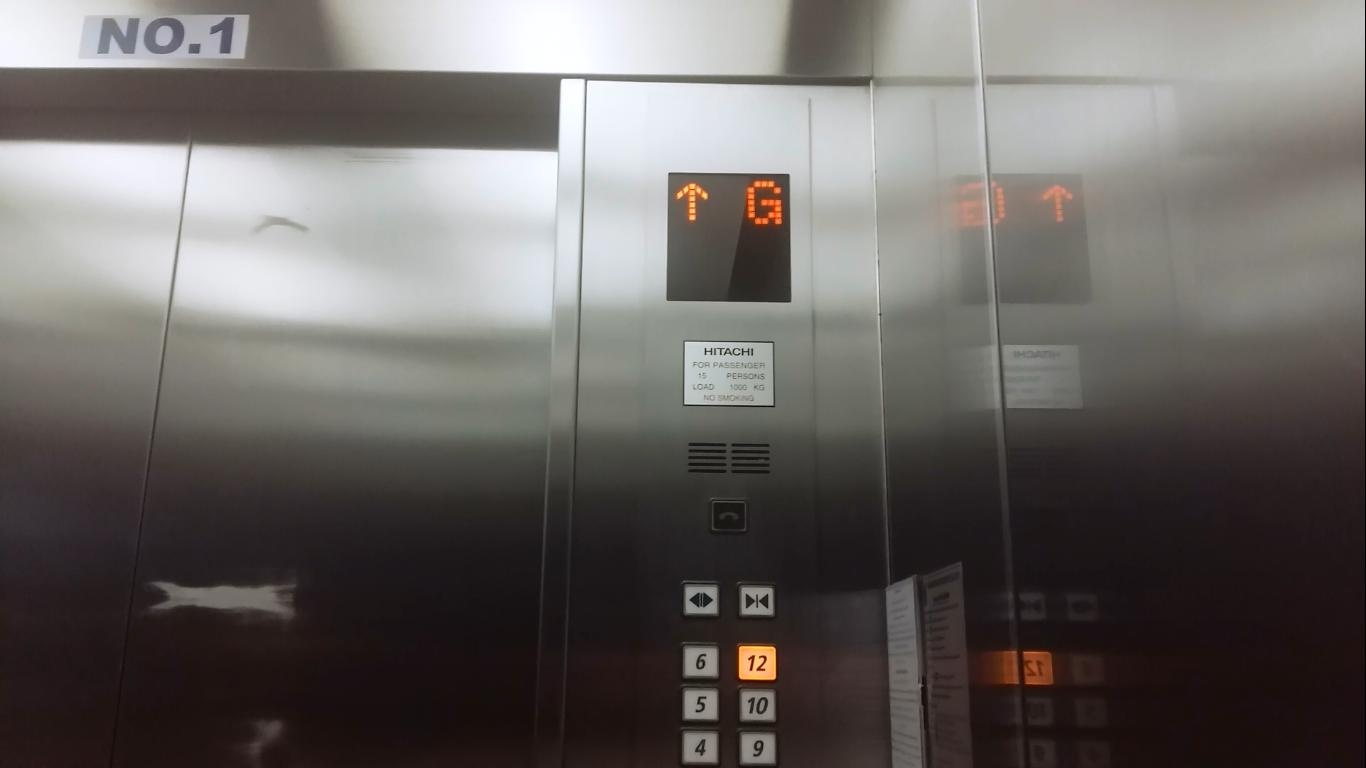10: (734, 682, 779, 726)
12: (733, 641, 778, 683)
4: (677, 726, 723, 768)
5: (678, 685, 722, 725)
6: (678, 639, 721, 682)
9: (735, 727, 781, 768)
call: (709, 499, 749, 538)
close: (735, 579, 777, 623), (1015, 589, 1048, 624)
led: (665, 169, 792, 304)
open: (679, 579, 720, 621)
unknown: (1019, 650, 1055, 686)
